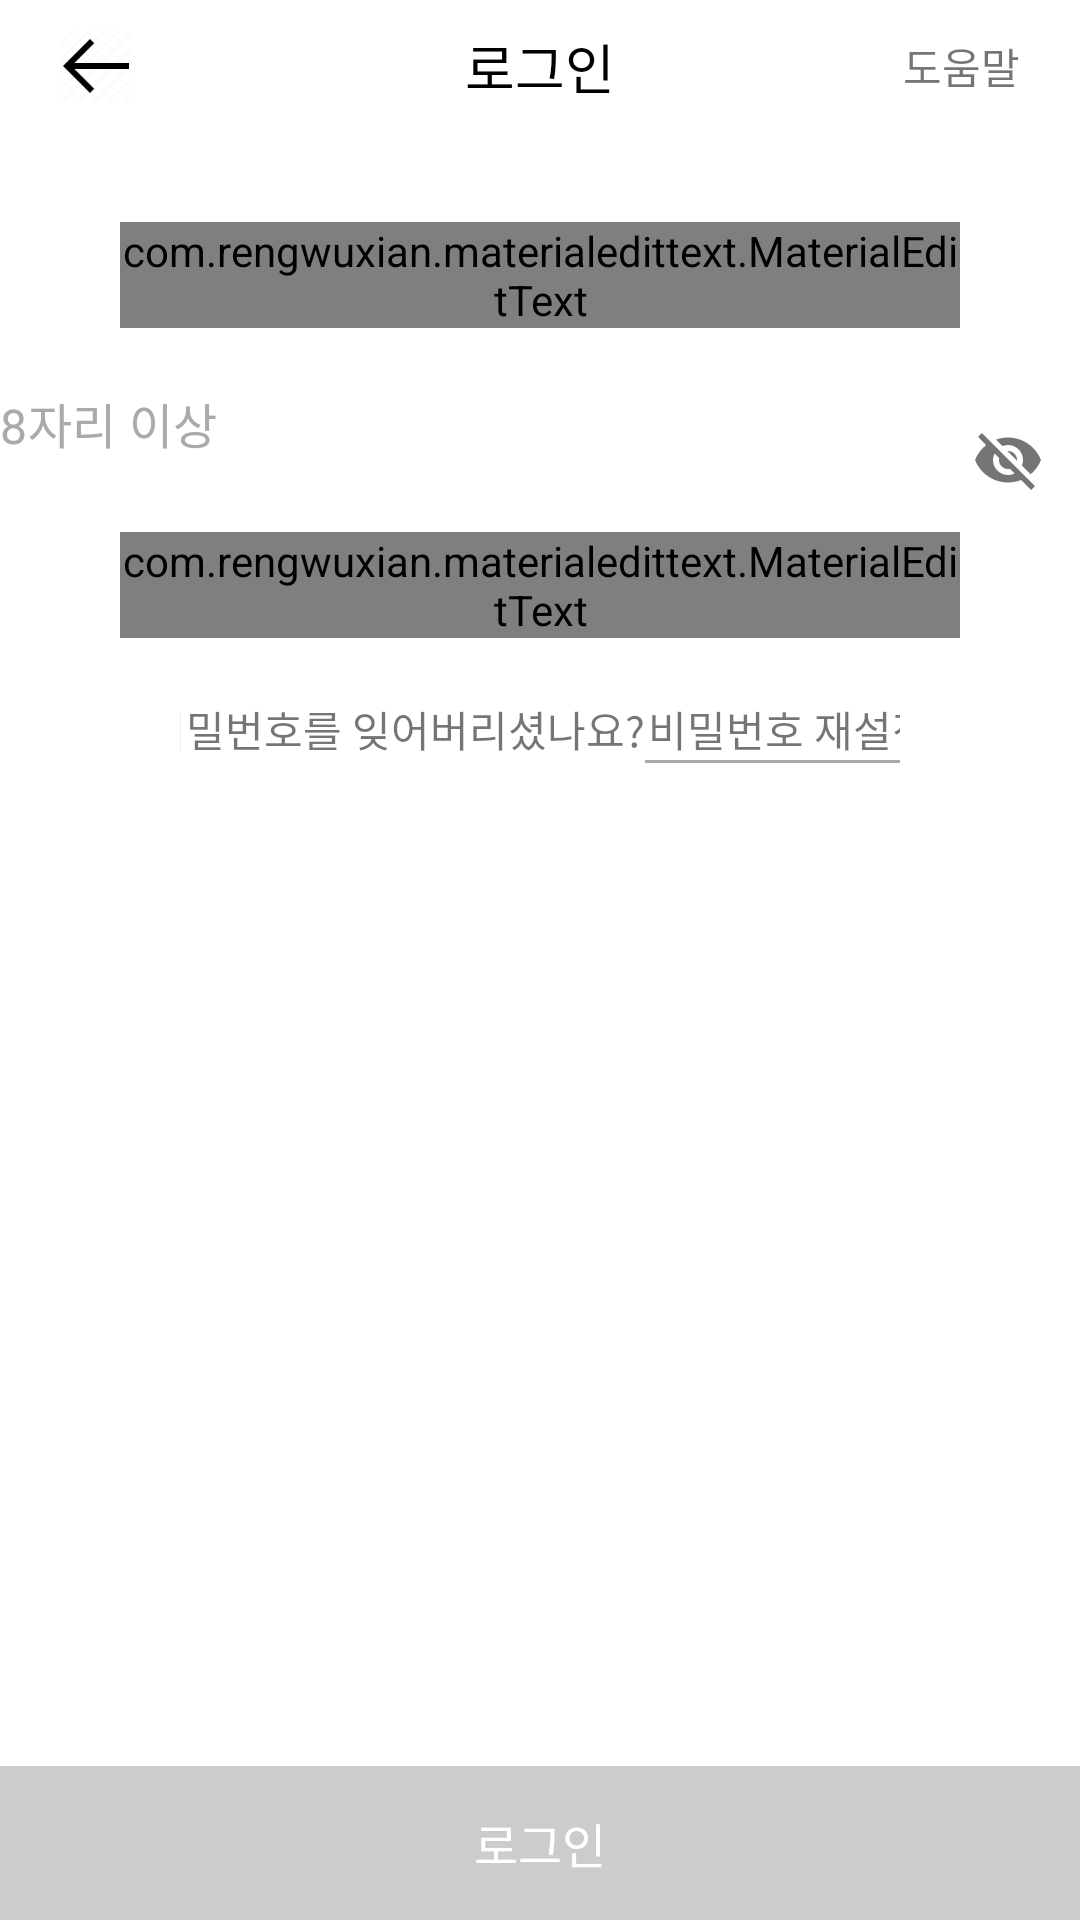

Named icons in this screenshot (1080×1920) and their bounding boxes, (x1, y1, x2, y2):
back: (63, 39, 129, 93)
